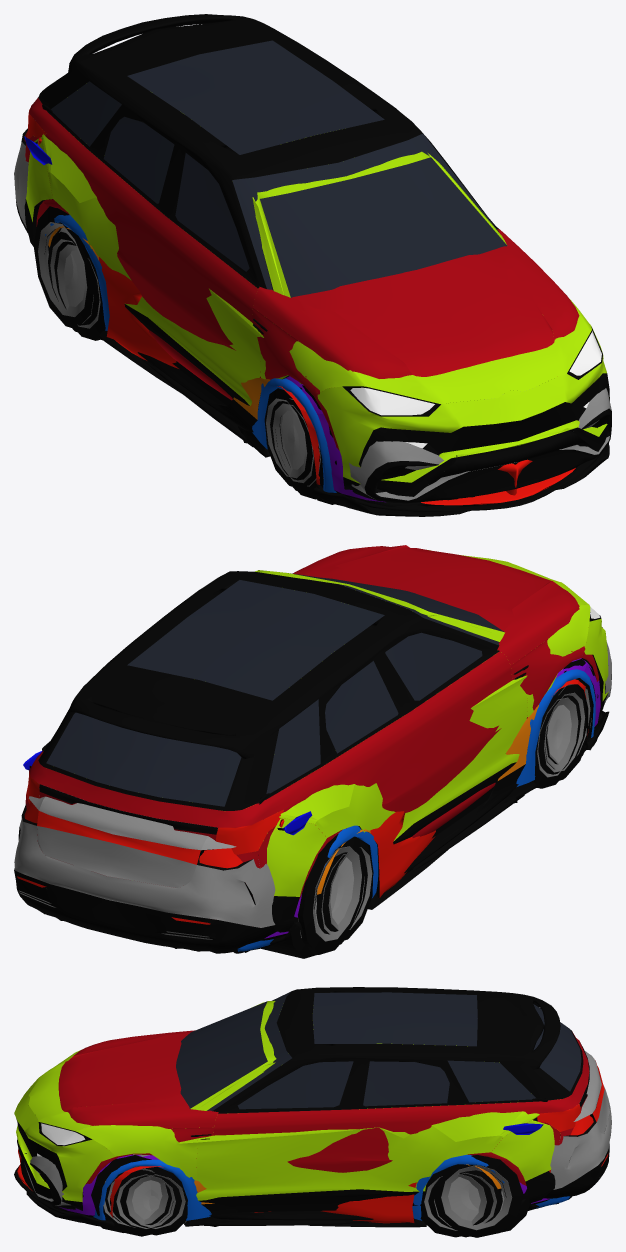
The model's file is cars_old.glb.
3 renders of one model, top to bottom at view 1: azimuth 30°, elevation 25°; view 2: azimuth 150°, elevation 25°; view 3: azimuth 270°, elevation 25°, orthographic. The views are drawn at different scales.
Visible parts, largest first — view 1: body (×7), wheel_RR (×3), wheel_FR (×2); view 2: body (×7), wheel_RR (×4), wheel_FR (×2); view 3: body (×8), wheel_RL (×3), wheel_FL (×3).
Part boxes in pixels (<box>): body (×7): <box>14,14,611,516</box>; wheel_RR (×3): <box>33,206,105,340</box>; wheel_FR (×2): <box>265,388,320,494</box>; body (×7): <box>14,545,611,953</box>; wheel_RR (×4): <box>261,834,373,958</box>; wheel_FR (×2): <box>535,684,586,788</box>; body (×8): <box>14,987,611,1227</box>; wheel_RL (×3): <box>420,1155,523,1237</box>; wheel_FL (×3): <box>91,1155,187,1235</box>.
Bounding box in the file's own units: 2.04 × 1.69 × 5.25.
